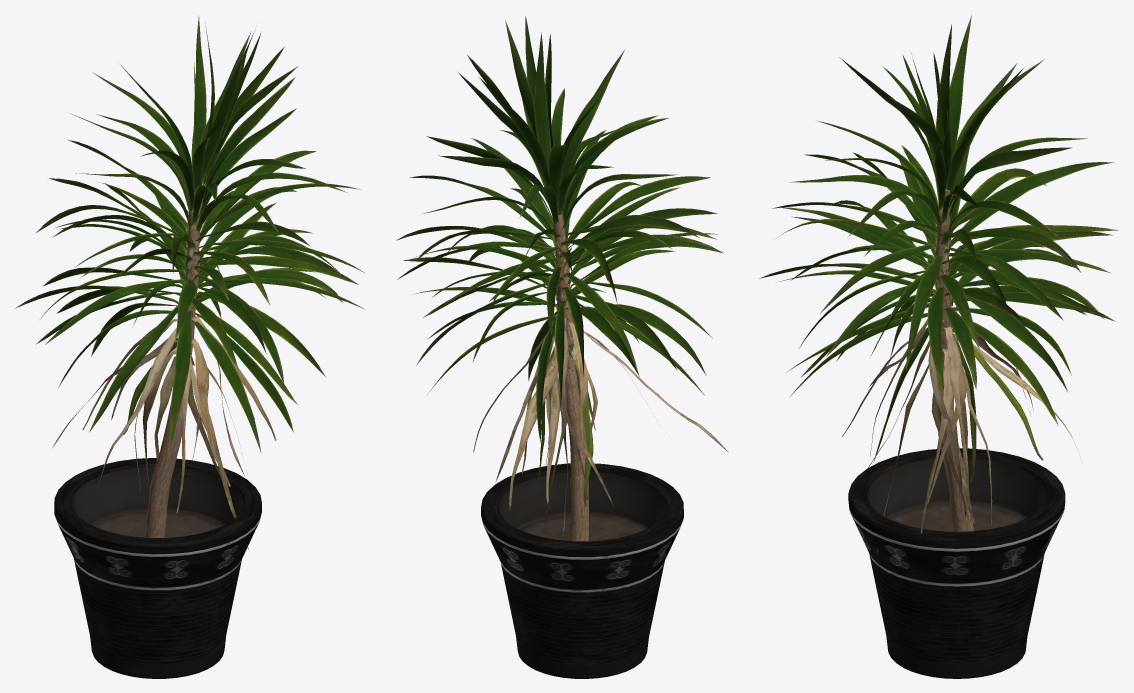
Rendered from palm_pot_large.glb.
3 views of the same model, side by side, from view 1: azimuth 30°, elevation 25°; view 2: azimuth 150°, elevation 25°; view 3: azimuth 270°, elevation 25° (orthographic). The views are drawn at different scales.
Visible parts, largest first — view 1: 02_3, flower_pot_2; view 2: 02_3, flower_pot_2; view 3: 02_3, flower_pot_2.
Part boxes in pixels (<box>): 02_3: <box>15,15,365,549</box>; flower_pot_2: <box>54,458,261,678</box>; 02_3: <box>396,16,728,541</box>; flower_pot_2: <box>481,463,683,678</box>; 02_3: <box>759,15,1118,554</box>; flower_pot_2: <box>848,448,1065,678</box>.
Bounding box in the file's own units: 1.02 × 2.08 × 1.05.
2 materials, 2 textured.
